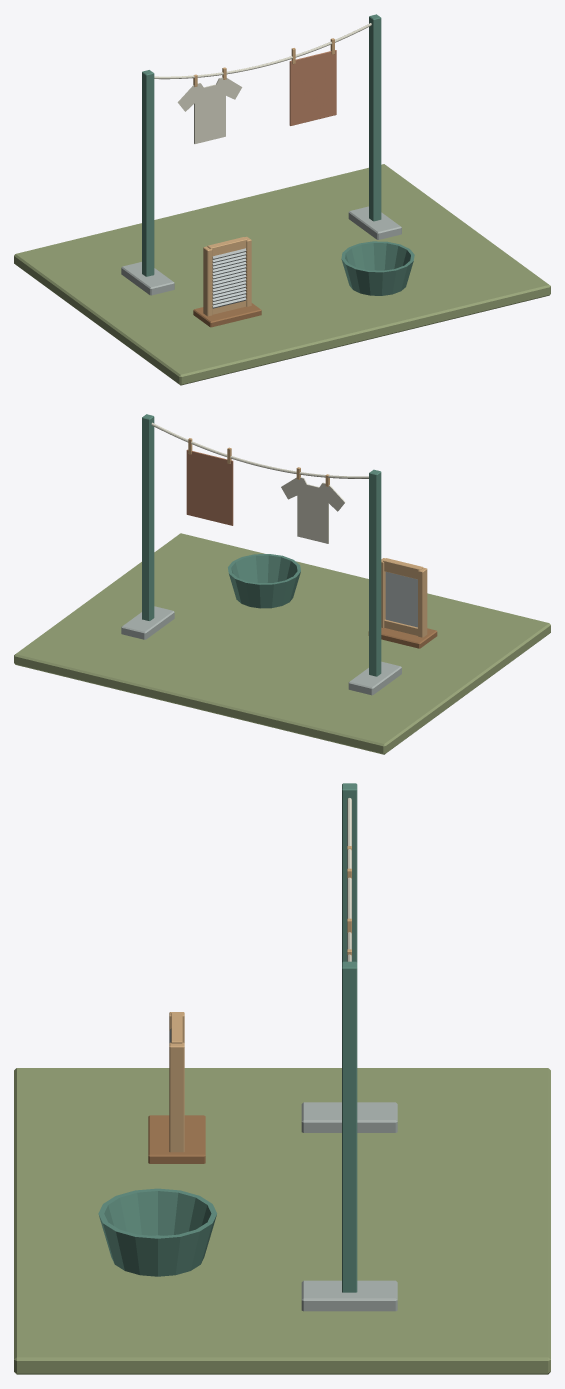
3 renders of one model, top to bottom at view 1: azimuth 30°, elevation 25°; view 2: azimuth 150°, elevation 25°; view 3: azimuth 270°, elevation 25°, orthographic. The views are drawn at different scales.
Visible parts, largest first — view 1: laundry-corner-01; view 2: laundry-corner-01; view 3: laundry-corner-01.
Part boxes in pixels (bbox=[...]): laundry-corner-01: bbox=[14, 14, 550, 385]; laundry-corner-01: bbox=[14, 414, 550, 754]; laundry-corner-01: bbox=[14, 783, 550, 1374].
Size of the model in its own units: 3.6 by 2.04 by 2.8.
